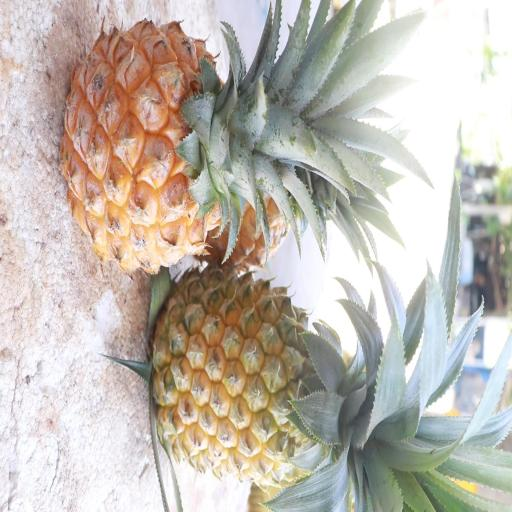Pineapple - v8 v1: (57, 12, 326, 280), (144, 259, 389, 488)
